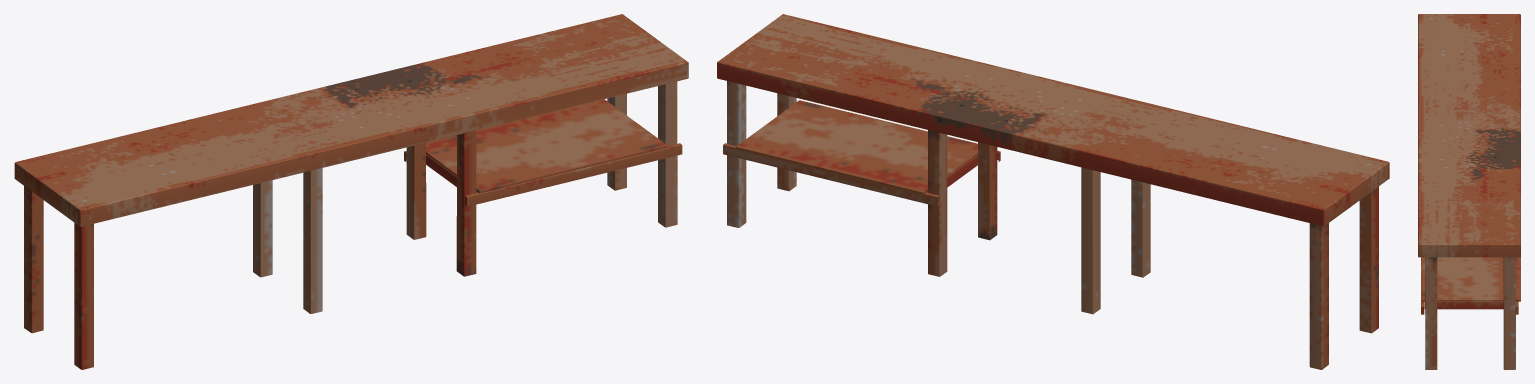
Rendered from WorkBench.fbx.
3 views of the same model, side by side, from view 1: azimuth 30°, elevation 25°; view 2: azimuth 150°, elevation 25°; view 3: azimuth 270°, elevation 25° (orthographic). The views are drawn at different scales.
Visible parts, largest first — view 1: WorkBench; view 2: WorkBench; view 3: WorkBench.
Boxes of the visible parts, x1,y1,x2,y2 form: WorkBench: (14, 14, 688, 369); WorkBench: (717, 14, 1389, 369); WorkBench: (1418, 14, 1520, 369).
Size of the model in its own units: 5.87 by 1.52 by 1.11.
